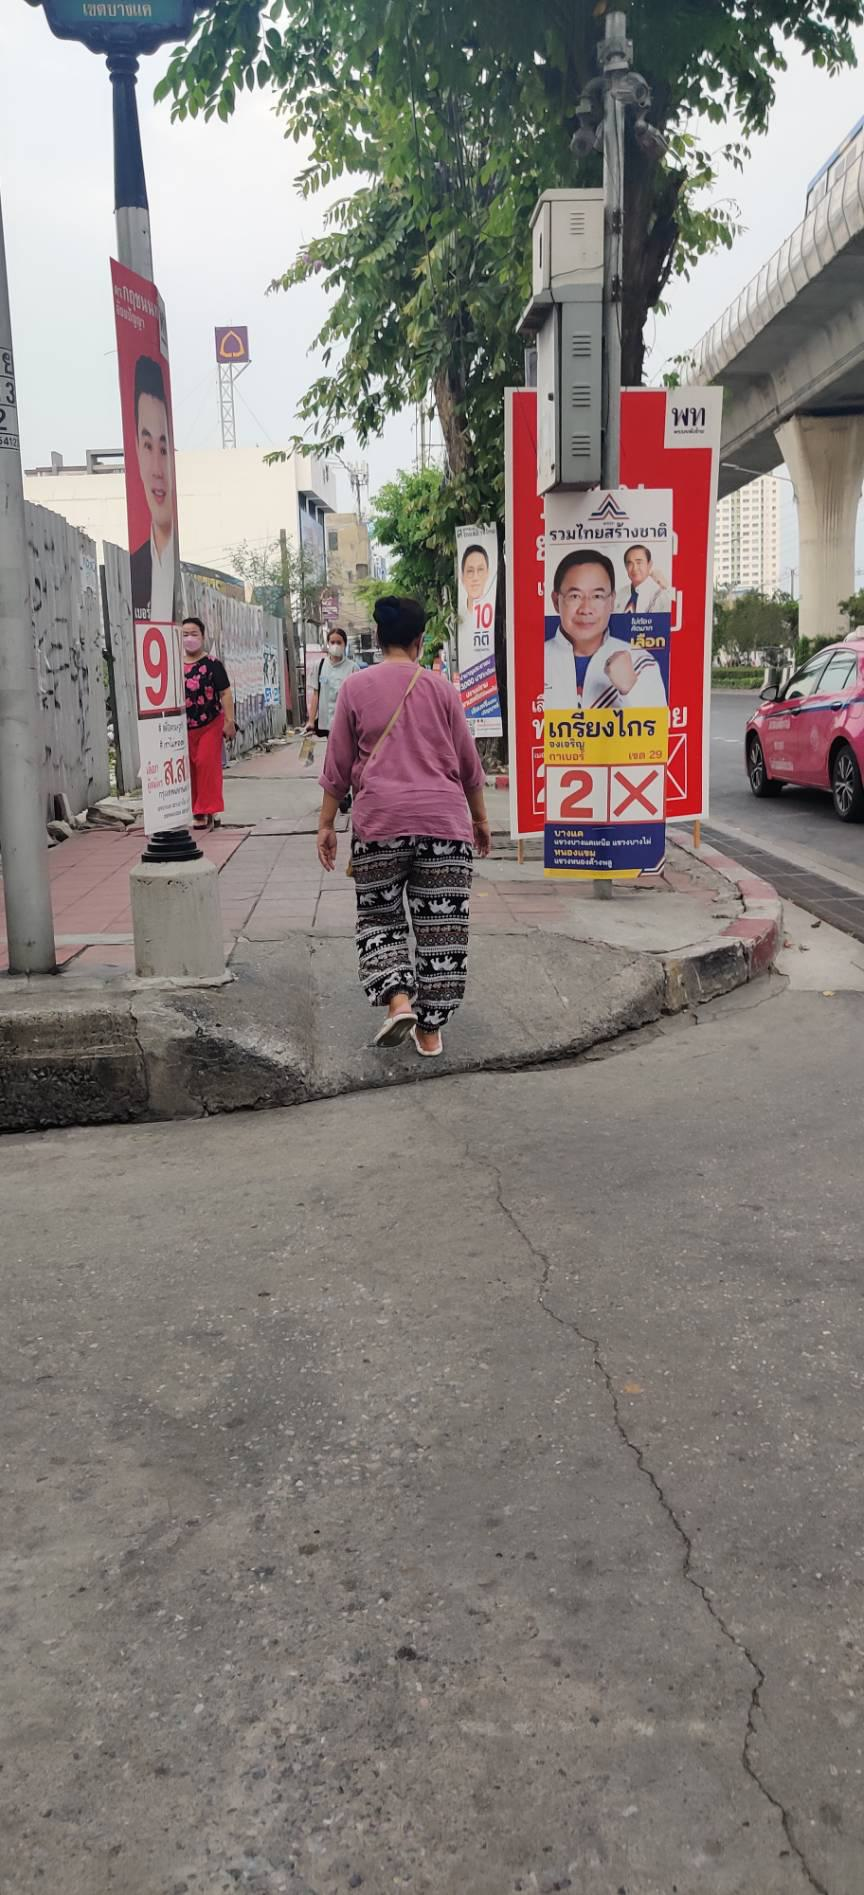Banner: (104, 267, 207, 840), (535, 487, 714, 805), (450, 531, 530, 737)
